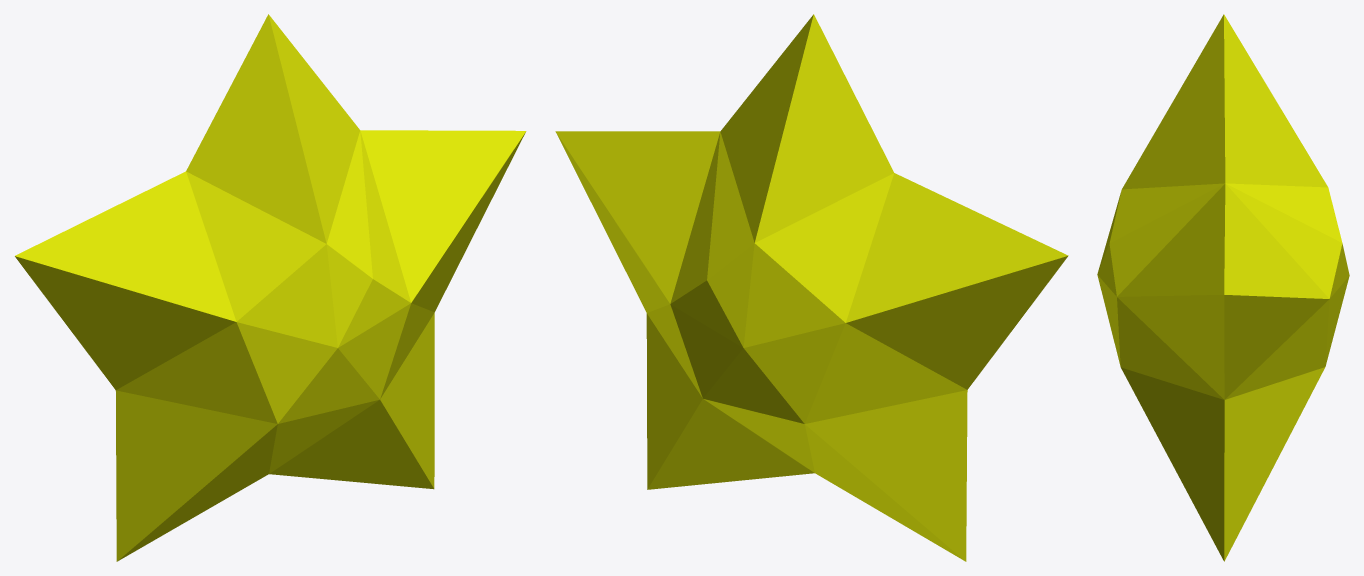
Rendered from Star.dae.
3 renders of one model, left to right at view 1: azimuth 30°, elevation 25°; view 2: azimuth 150°, elevation 25°; view 3: azimuth 270°, elevation 25°, orthographic. The views are drawn at different scales.
Visible parts, largest first — view 1: Icosphere; view 2: Icosphere; view 3: Icosphere.
Boxes of the visible parts, box(x1,y1,x2,y2) form: Icosphere: box(15, 14, 526, 561); Icosphere: box(555, 14, 1068, 561); Icosphere: box(1097, 14, 1349, 561).
Size of the model in its own units: 4.38 by 2.03 by 4.21.
